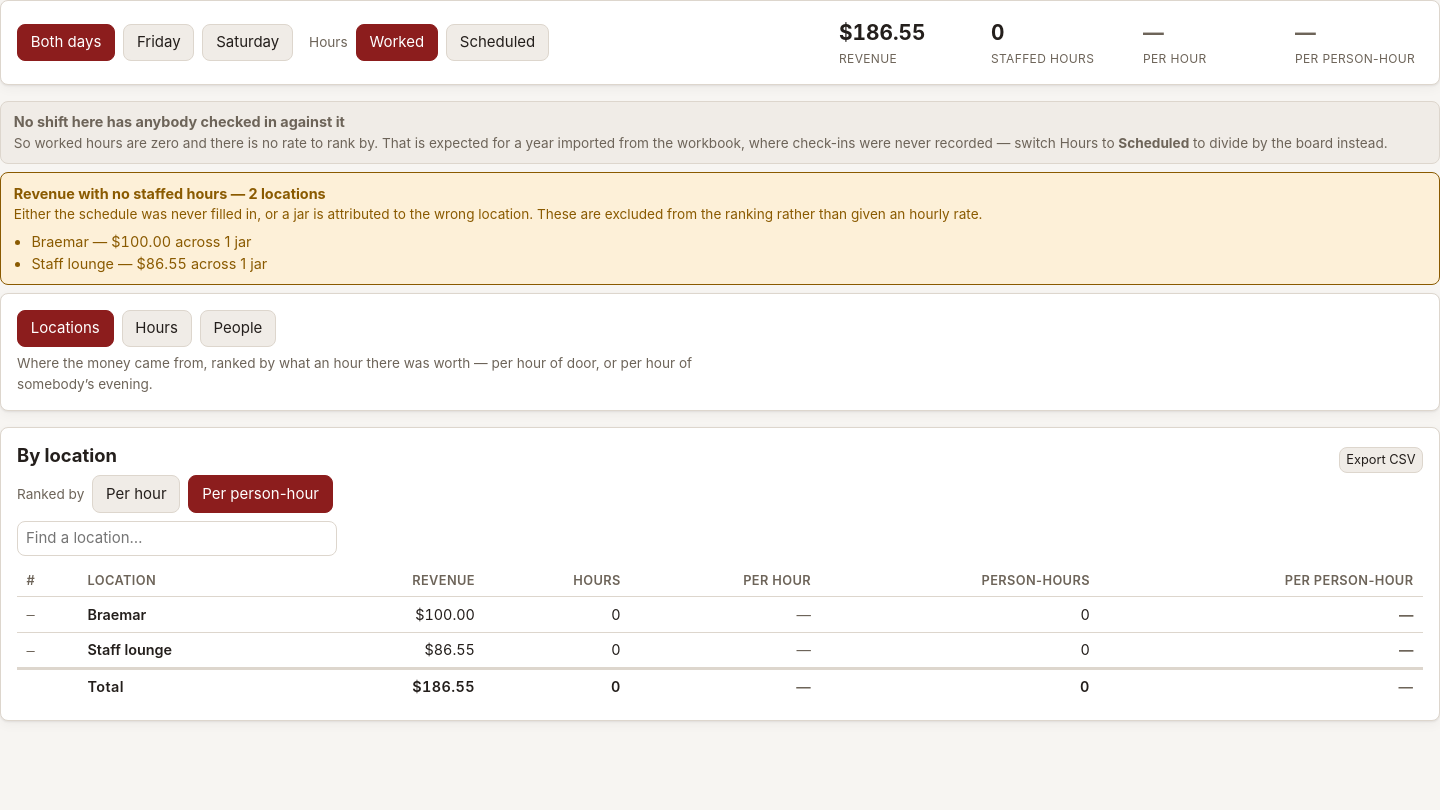
it: hours mean hours somebody worked › can be switched back to the board, for a year with no check-ins recorded
Click the button "Scheduled" at (498, 42), box [446,24,549,61]
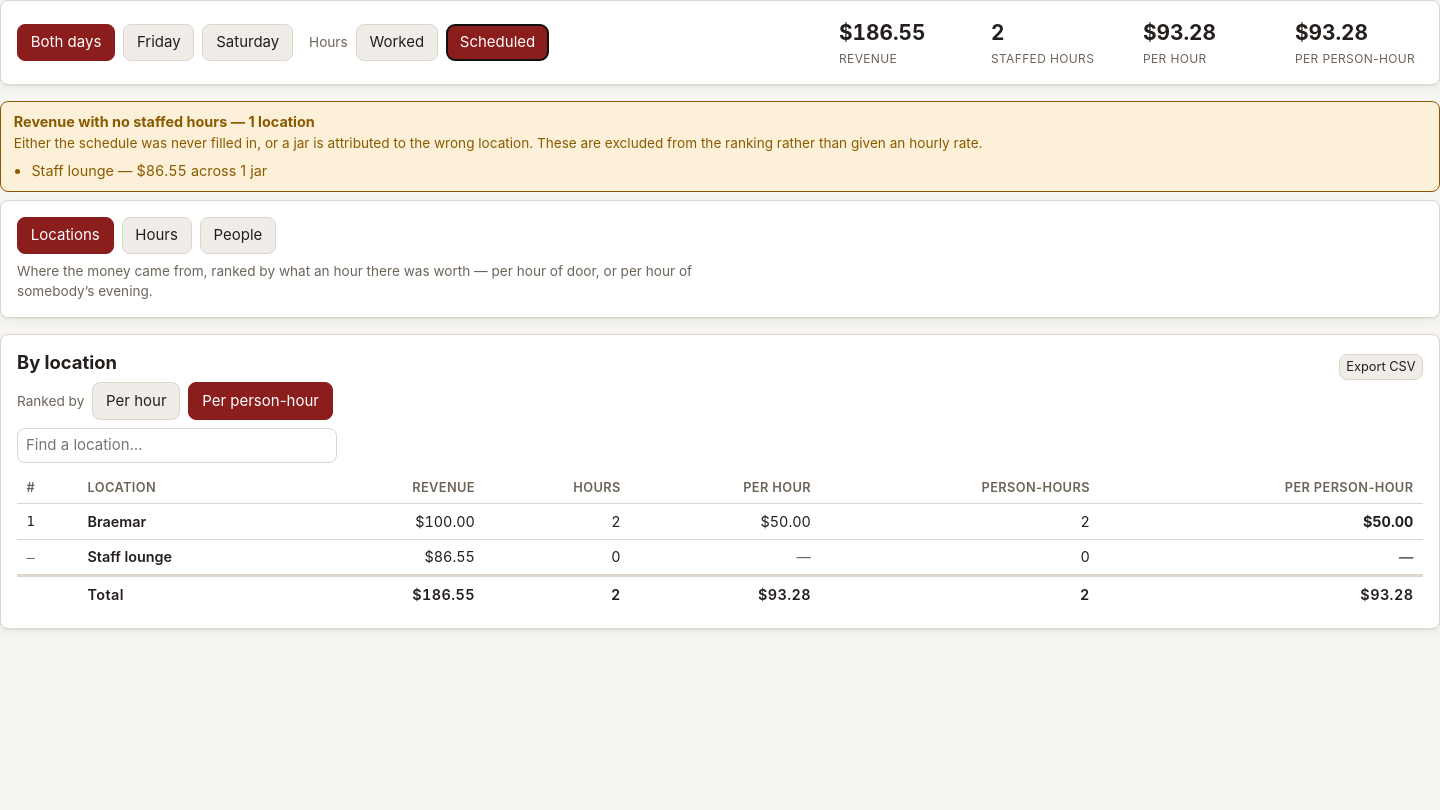
expect the text "staffed hours" shows "2": met, box [991,20,1004,45]
Click the button "Worked" at (397, 42), box [356,24,438,61]
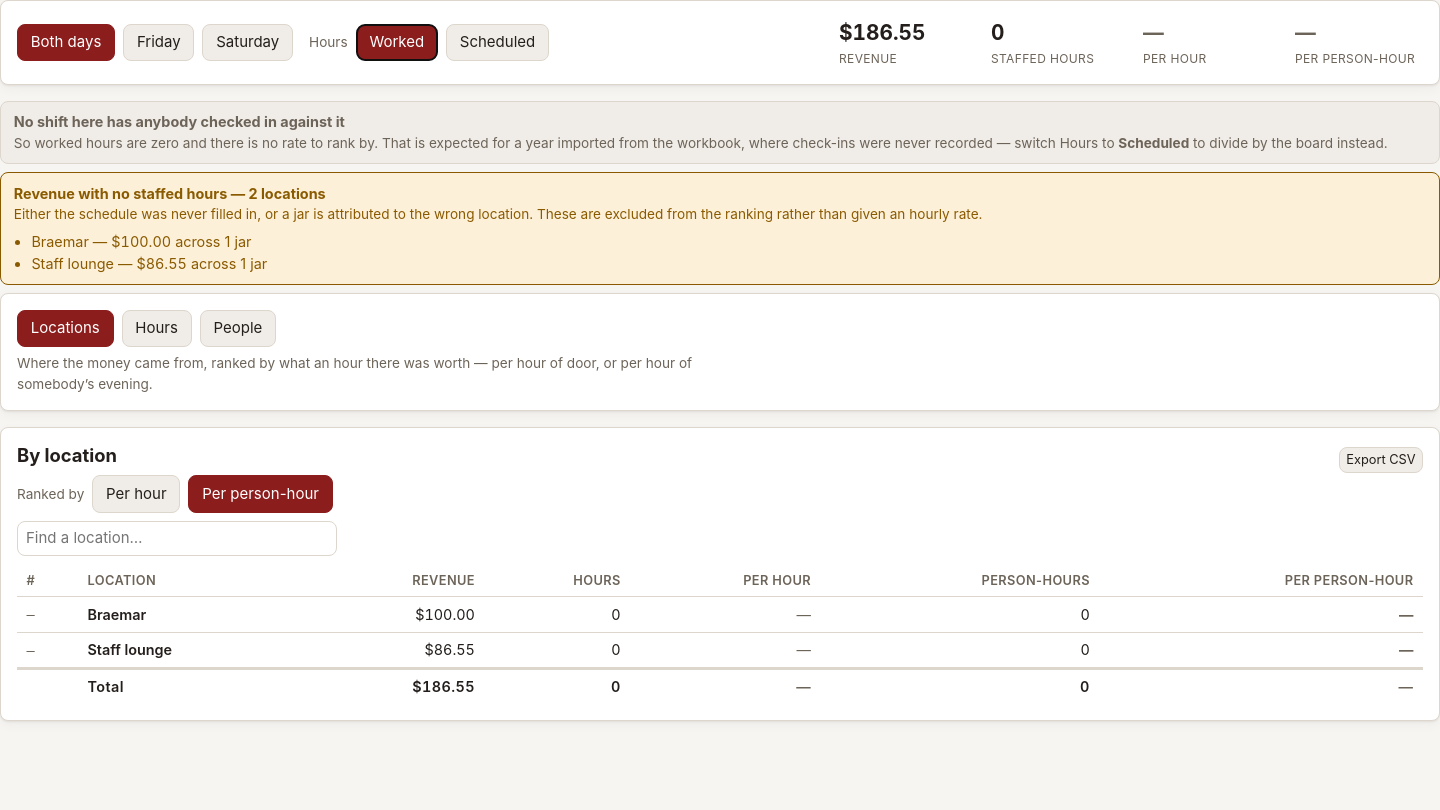
expect the text "staffed hours" shows "0": met, box [991,20,1004,45]
